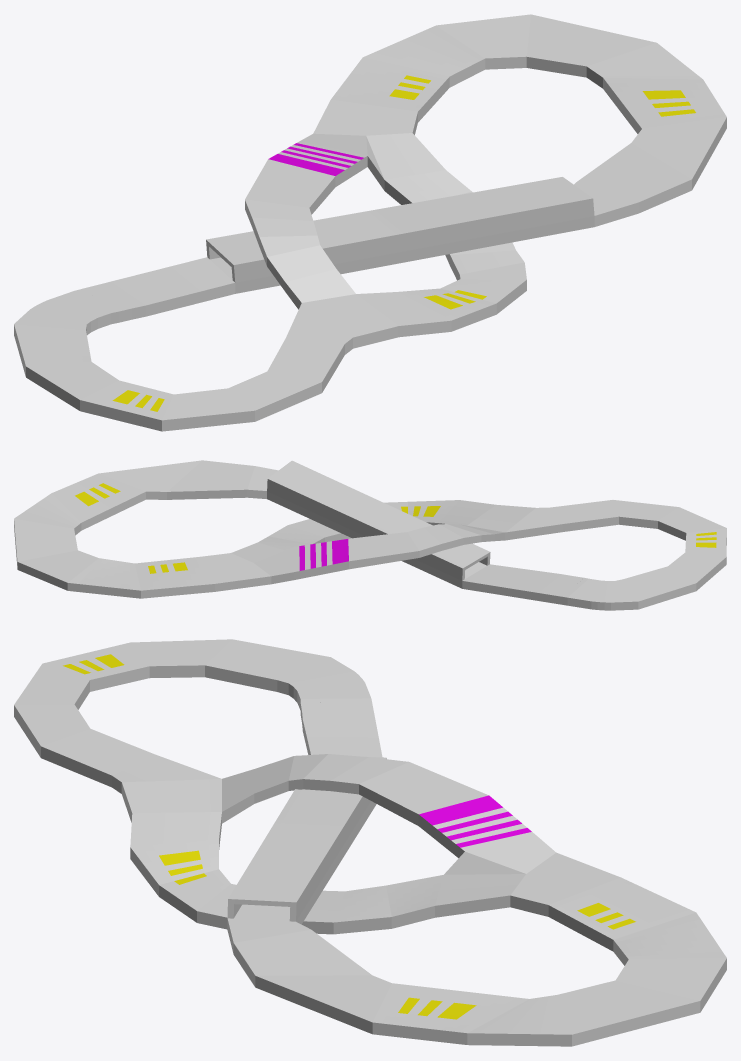
Rendered from Track1_Model.fbx.
3 views of the same model, one above another, from view 1: azimuth 30°, elevation 25°; view 2: azimuth 150°, elevation 25°; view 3: azimuth 270°, elevation 25° (orthographic). The views are drawn at different scales.
Parts seen in each view (by area): view 1: Track; view 2: Track; view 3: Track.
Boxes of the visible parts, <box> form: Track: <box>14,14,726,431</box>; Track: <box>14,460,726,610</box>; Track: <box>14,639,726,1046</box>.
Size of what is drawn, in the model's own units: 14784 by 1120 by 10860.
